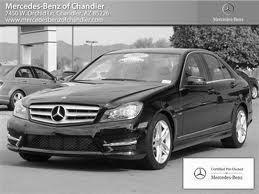car: (5, 29, 257, 183)
